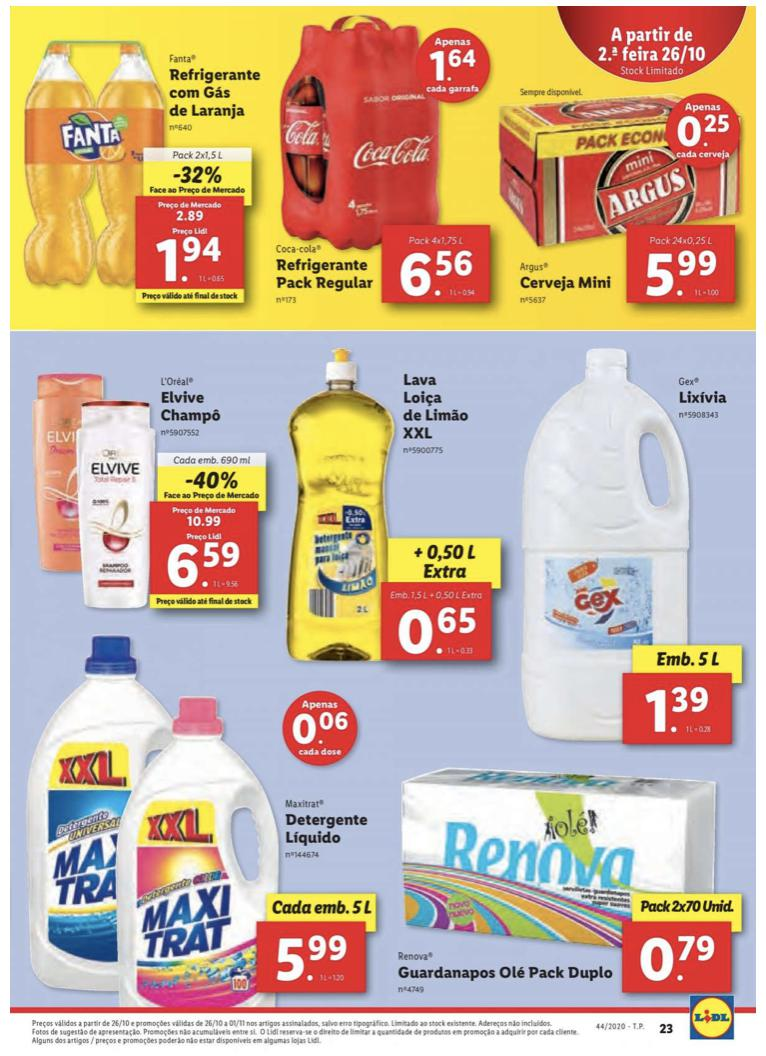name: (167, 63, 268, 123), (392, 370, 471, 440), (275, 255, 379, 295), (287, 808, 370, 849), (159, 387, 226, 429), (516, 270, 617, 296), (677, 387, 731, 409)
price: (635, 930, 720, 986), (395, 244, 476, 302), (270, 930, 350, 988), (397, 605, 484, 658), (156, 234, 235, 291), (641, 248, 722, 302), (167, 540, 246, 595), (643, 682, 716, 738)
product: (20, 629, 387, 1002), (506, 336, 748, 746), (391, 763, 751, 999), (23, 27, 273, 324), (273, 12, 504, 320), (280, 358, 496, 671), (29, 357, 281, 619), (497, 67, 762, 315)
promotion: (154, 161, 226, 190), (184, 469, 238, 491)
